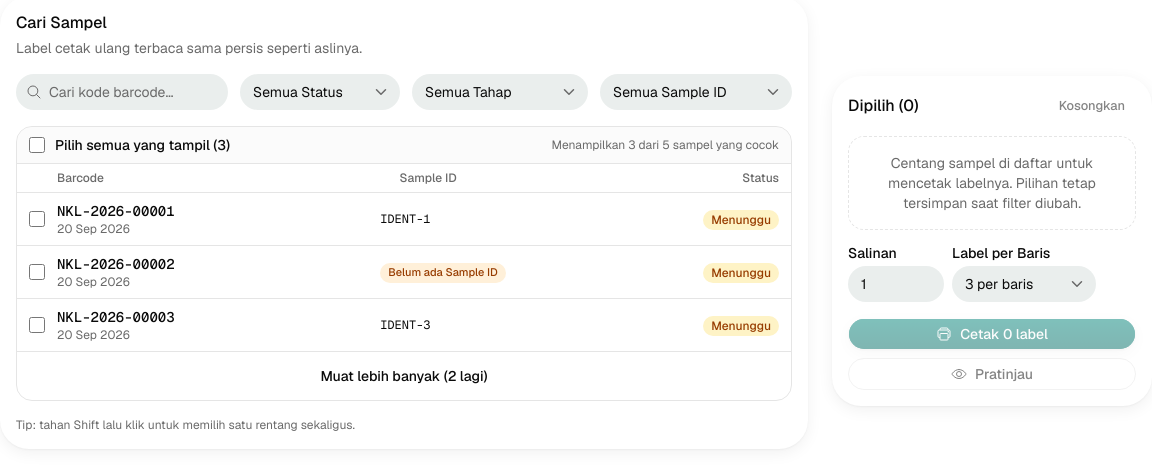
Scenario: LabelReprint › selects everything shown from the list's own header, and shows a partial one
This screenshot has width=1152, height=468.
Expected: the text "NKL-2026-00001" is shown, [57,202,175,220]
Click the checkbox labelled "NKL-2026-00002 20 Sep 2026 Belum ada Sample ID Menunggu" at (37, 272), box [29,264,45,280]
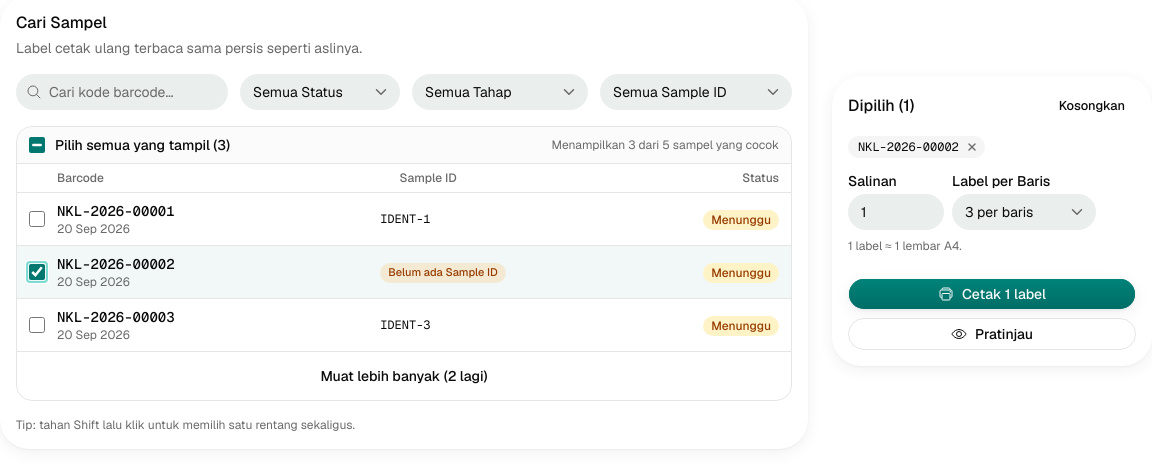
Click the checkbox labelled "Pilih semua yang tampil (3)" at (37, 145), box [29,137,45,153]
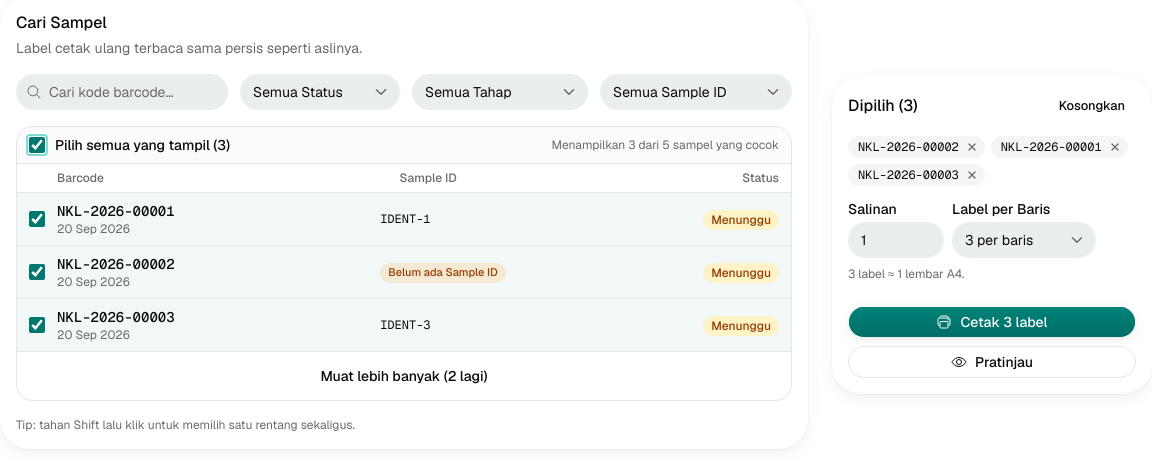
Expected: the checkbox labelled "Pilih semua yang tampil (3)" is checked
Expected: the text "Dipilih (3)" is shown, [848,95,918,117]
Click the checkbox labelled "Pilih semua yang tampil (3)" at (37, 145), box [29,137,45,153]
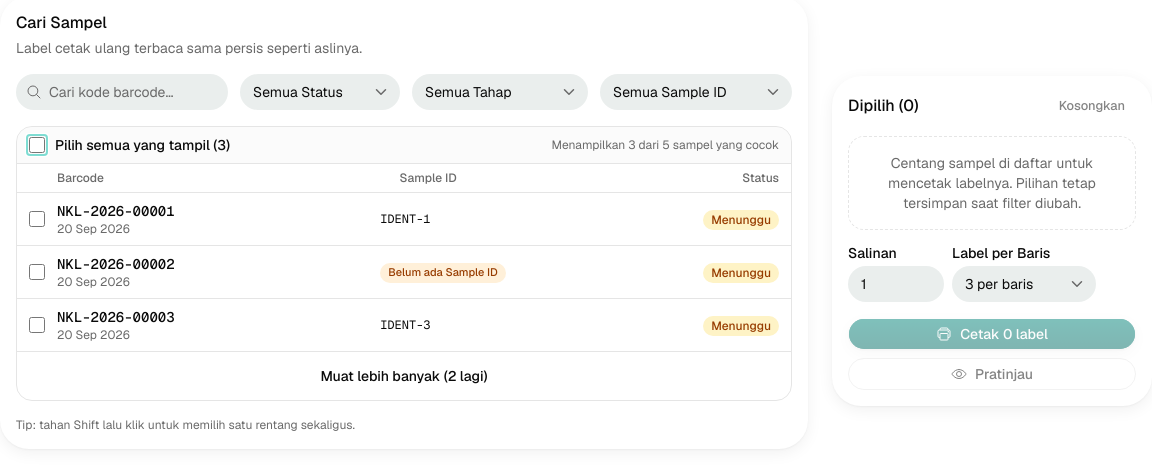
Expected: the checkbox labelled "Pilih semua yang tampil (3)" is not checked, [29,137,45,153]
Expected: the text "Dipilih (0)" is shown, [848,95,919,117]
